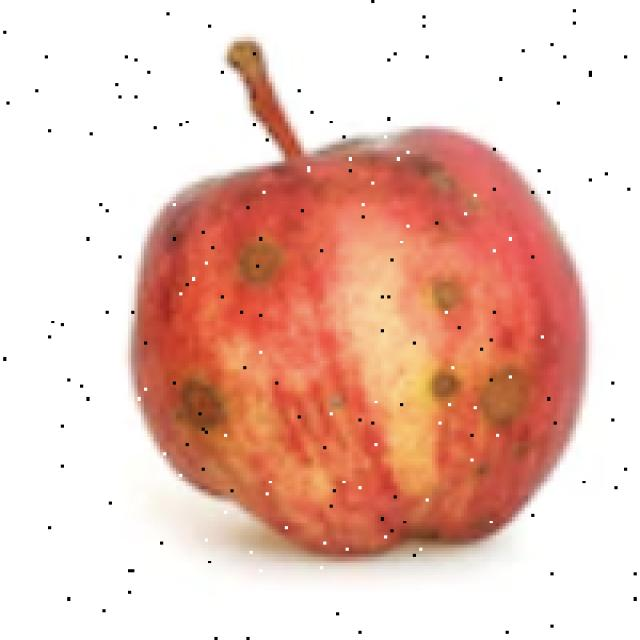Rotten: (116, 120, 596, 560)
